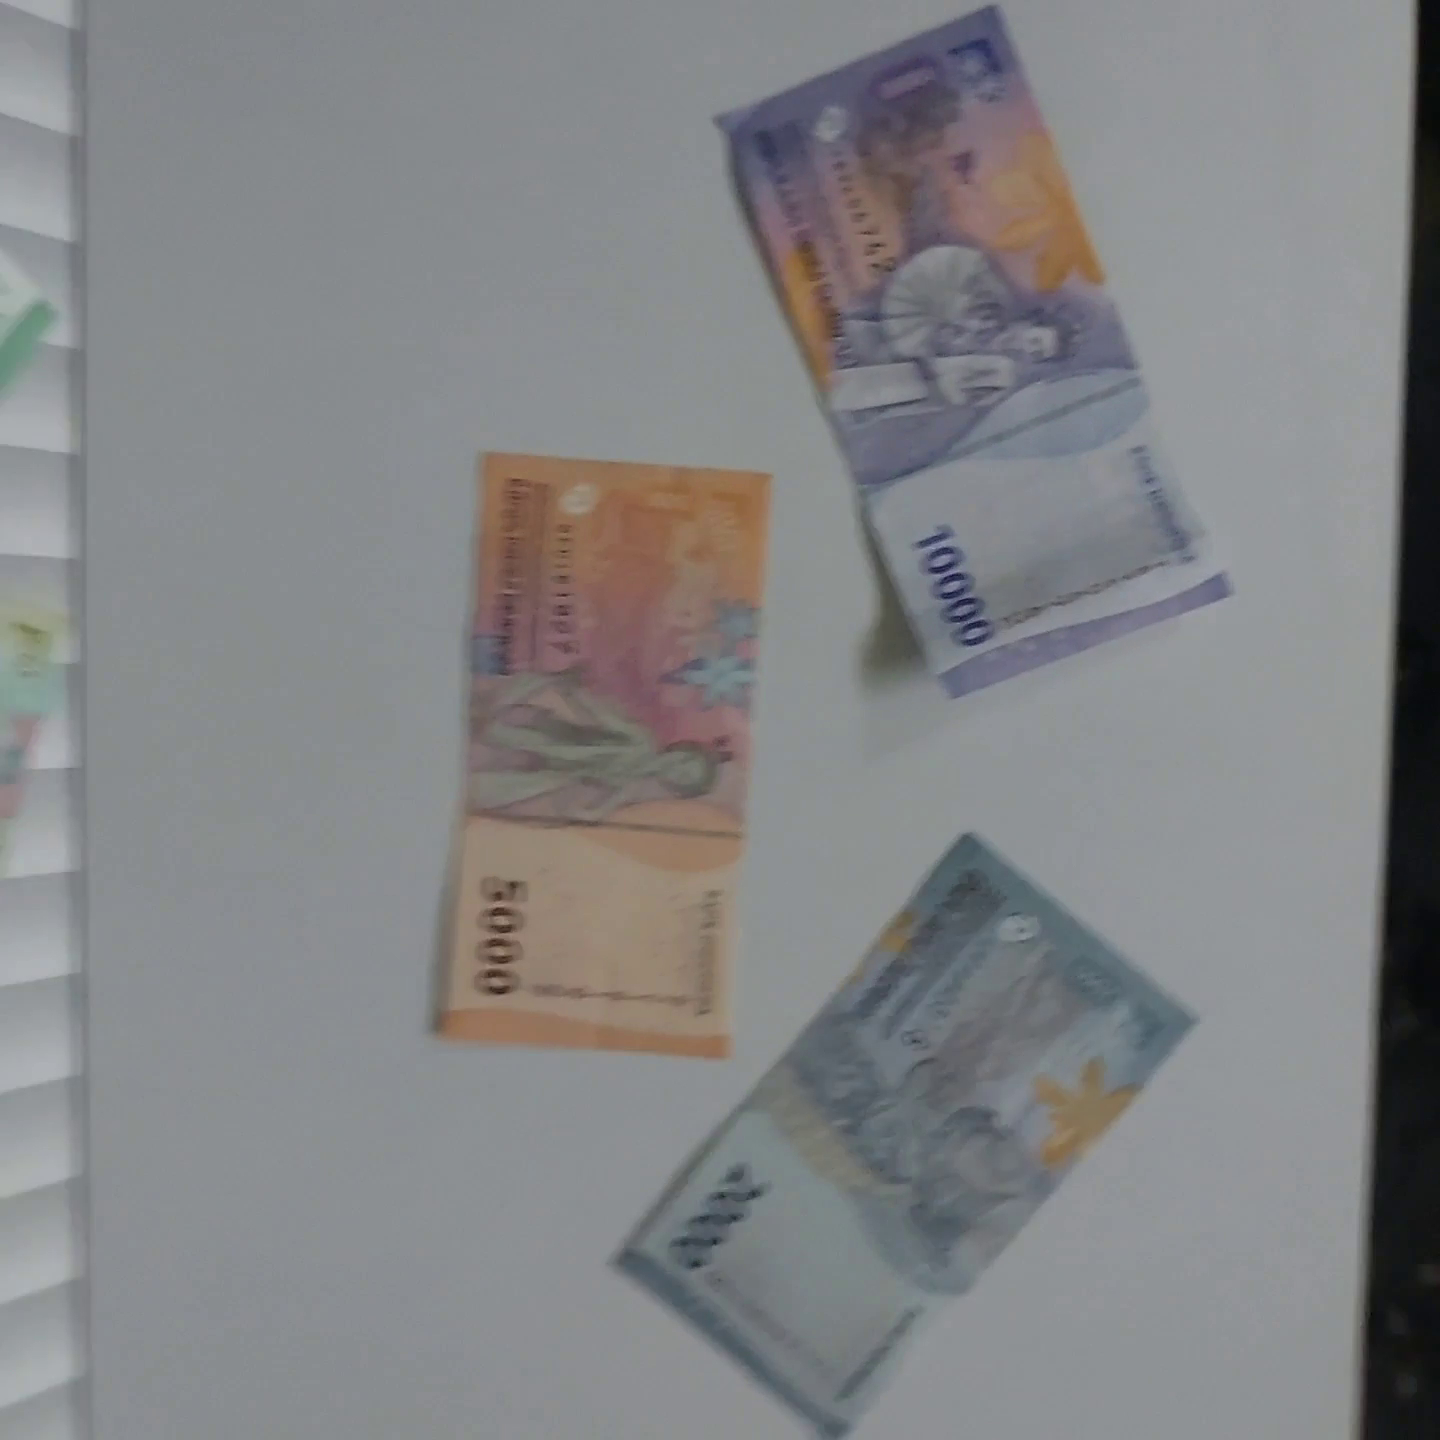10k: (717, 111, 1051, 744)
2k: (973, 814, 1279, 1381)
5k: (433, 400, 769, 1075)
